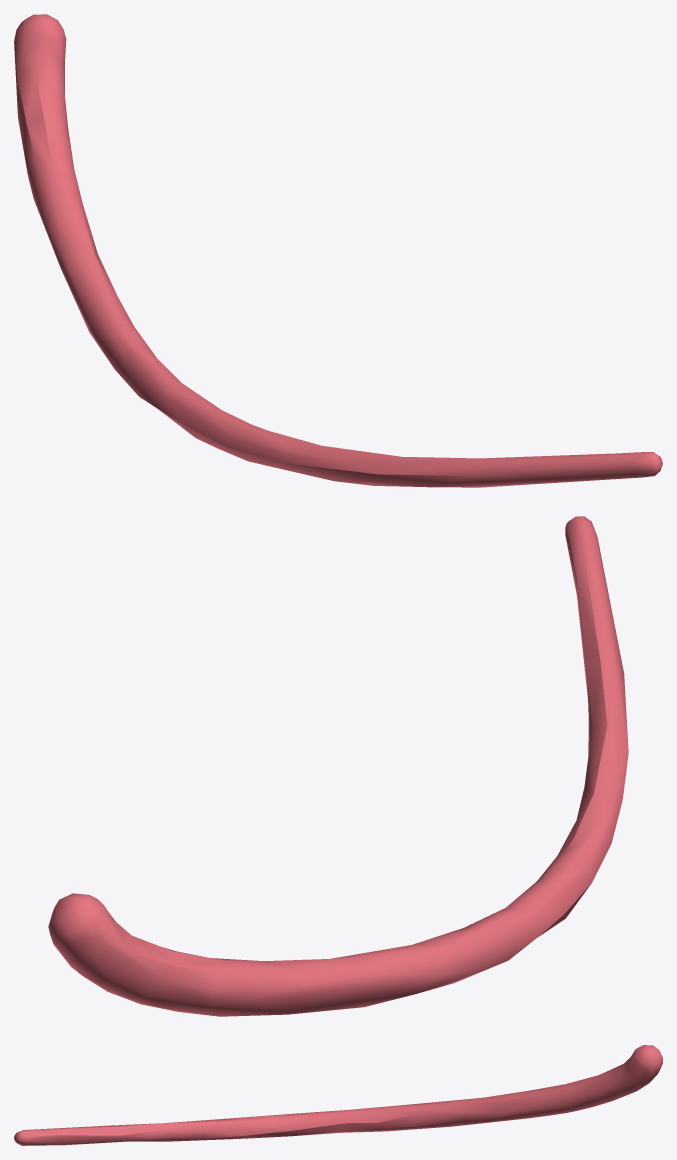
File: fma49762_fj5077.glb
3 views of the same model, one above another, from view 1: azimuth 30°, elevation 25°; view 2: azimuth 150°, elevation 25°; view 3: azimuth 270°, elevation 25° (orthographic). The views are drawn at different scales.
Parts seen in each view (by area): view 1: FMA49762_FJ5077; view 2: FMA49762_FJ5077; view 3: FMA49762_FJ5077.
Part boxes in pixels (x1,y1,x2,y2): FMA49762_FJ5077: (14,14,662,487); FMA49762_FJ5077: (48,516,628,1016); FMA49762_FJ5077: (14,1045,662,1145).
Size of the model in its own units: 0.00521 by 0.00405 by 0.0198.
